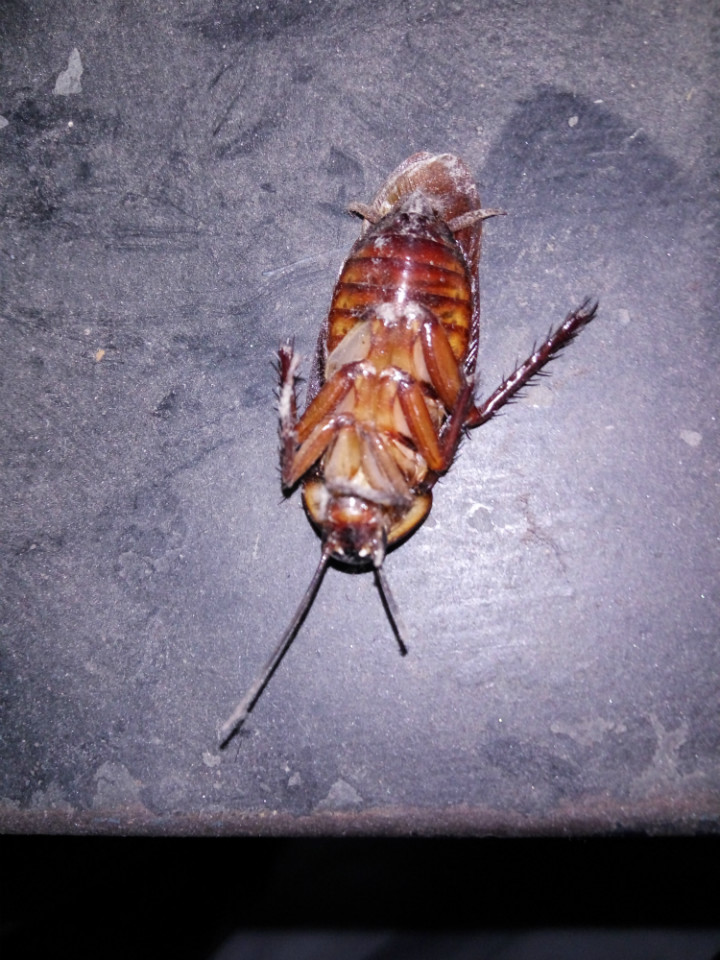cockroach: (179, 115, 665, 775)
